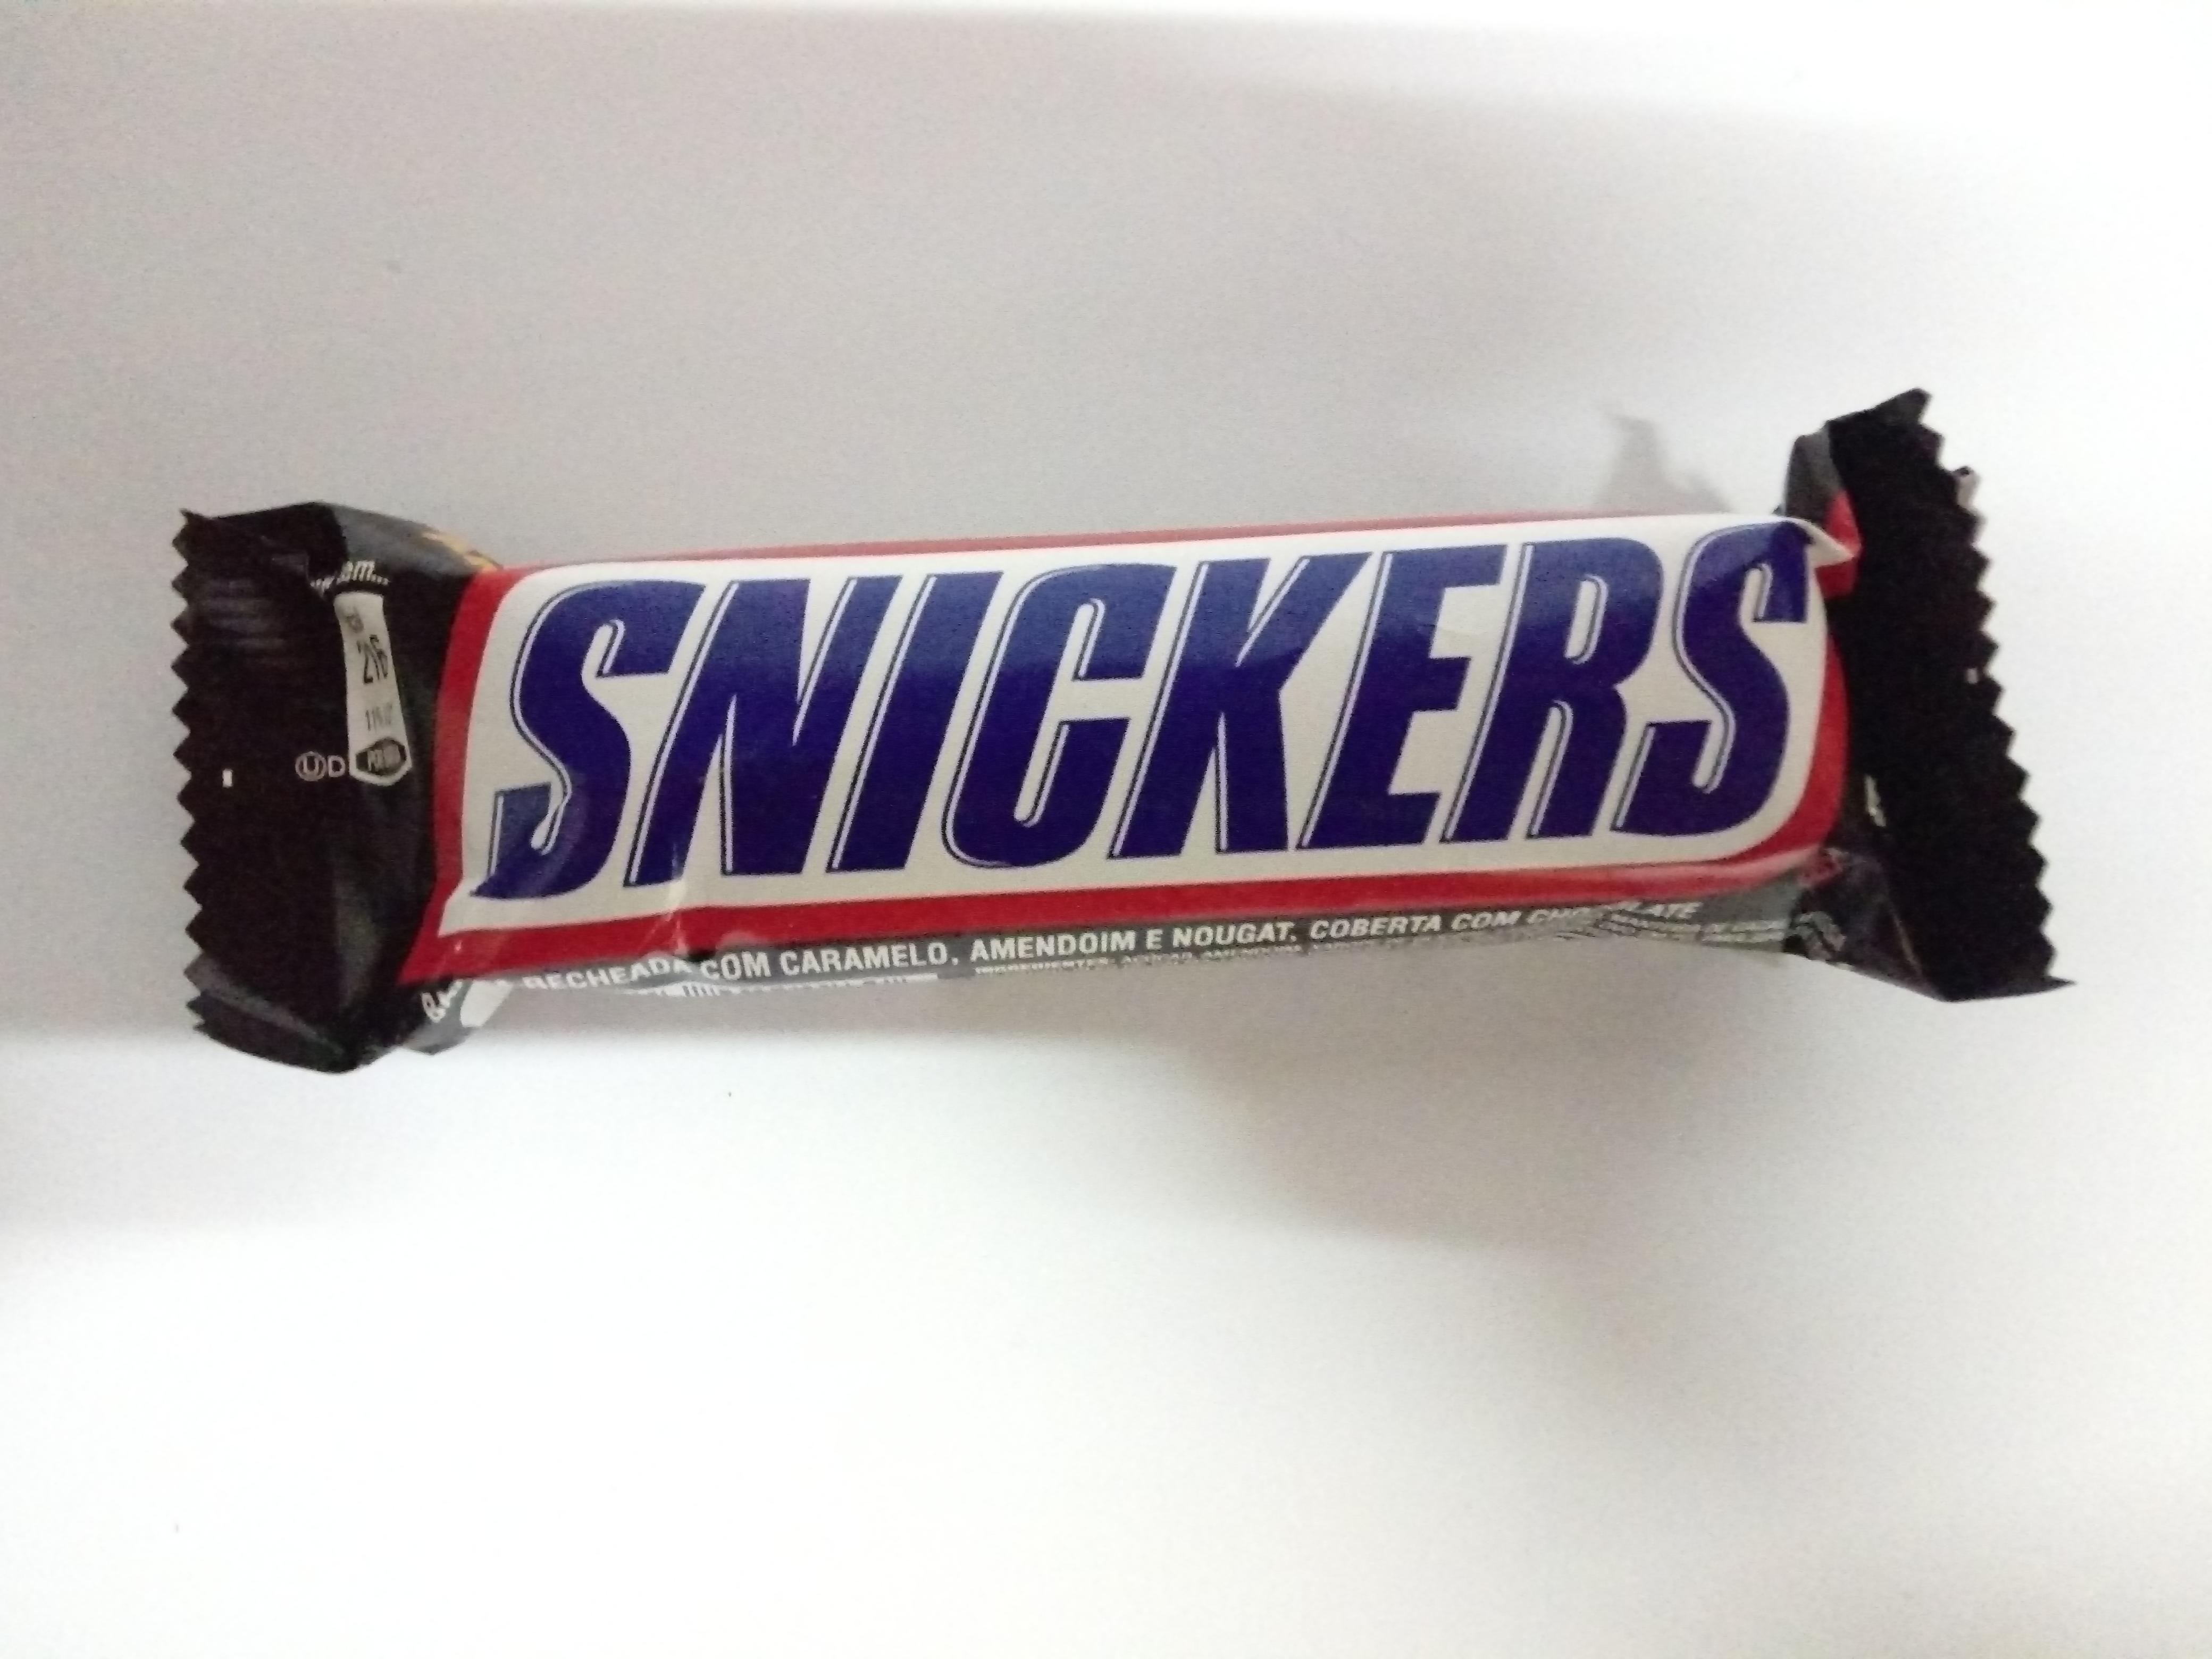snickers: (150, 368, 2104, 1105)
